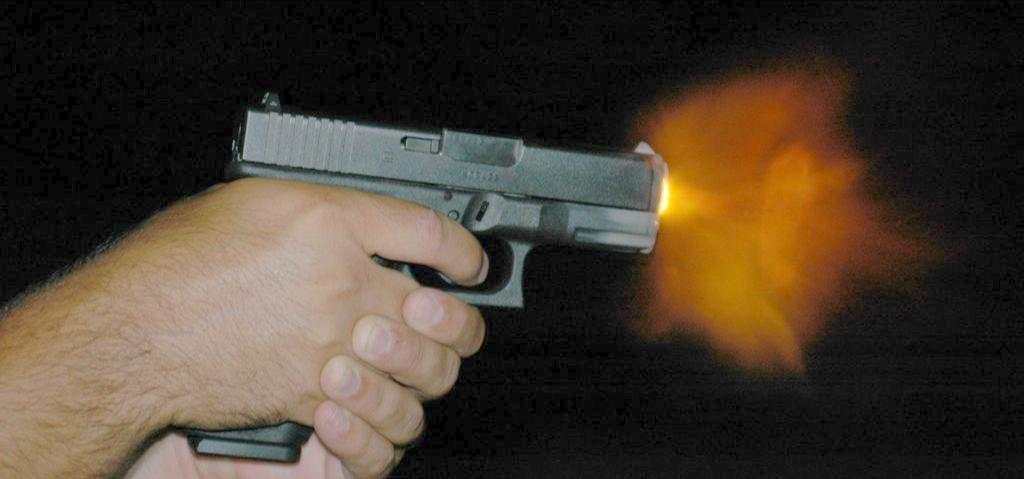gun: (220, 88, 665, 390)
